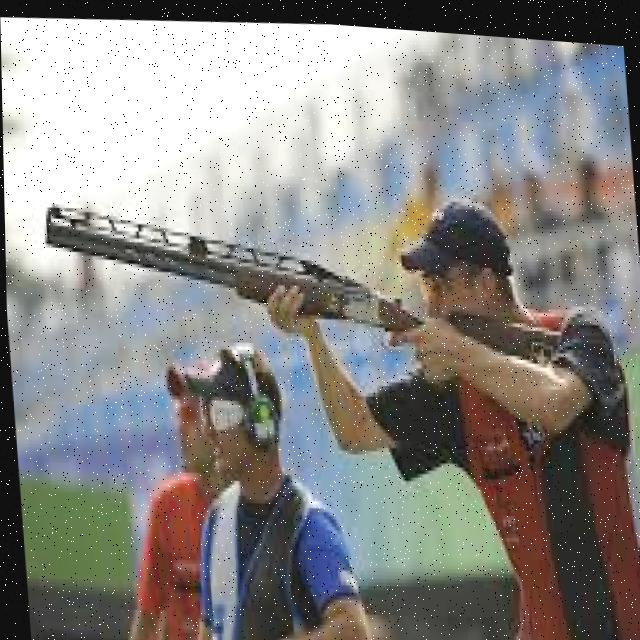firearm: (41, 176, 555, 382)
